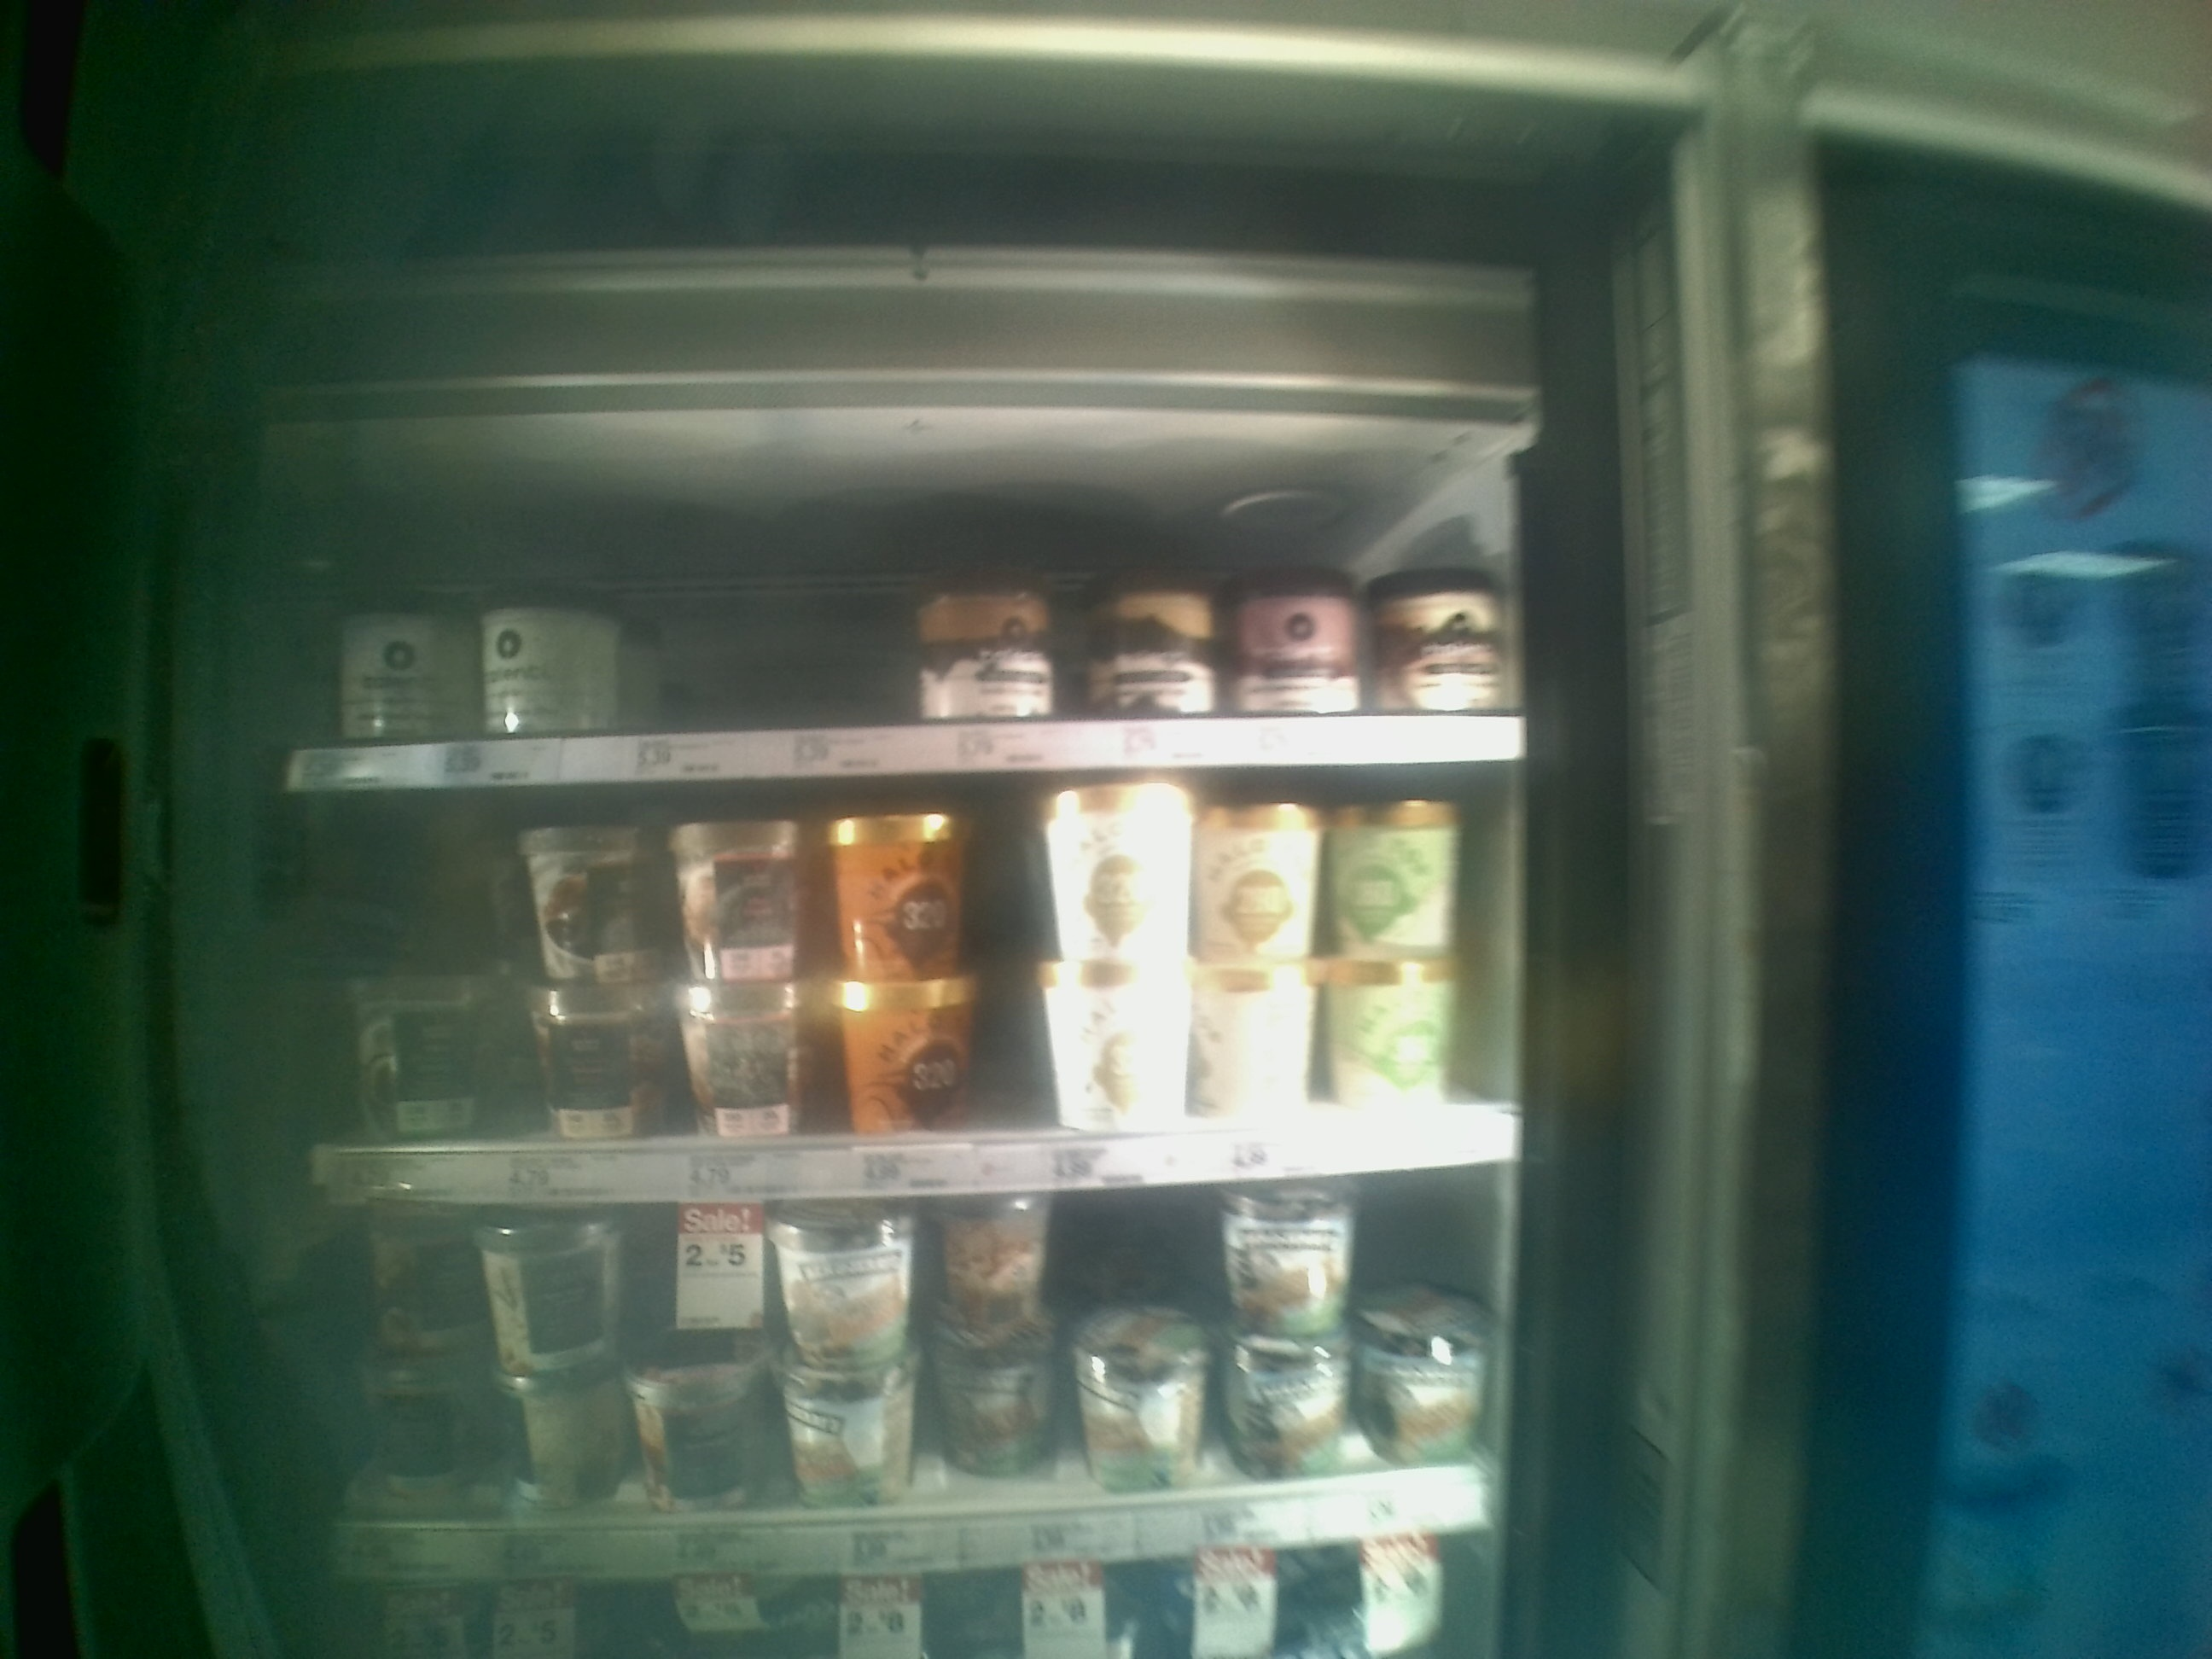shelf: (310, 1155, 1515, 1579), (273, 796, 1526, 1185), (275, 436, 1515, 788)
